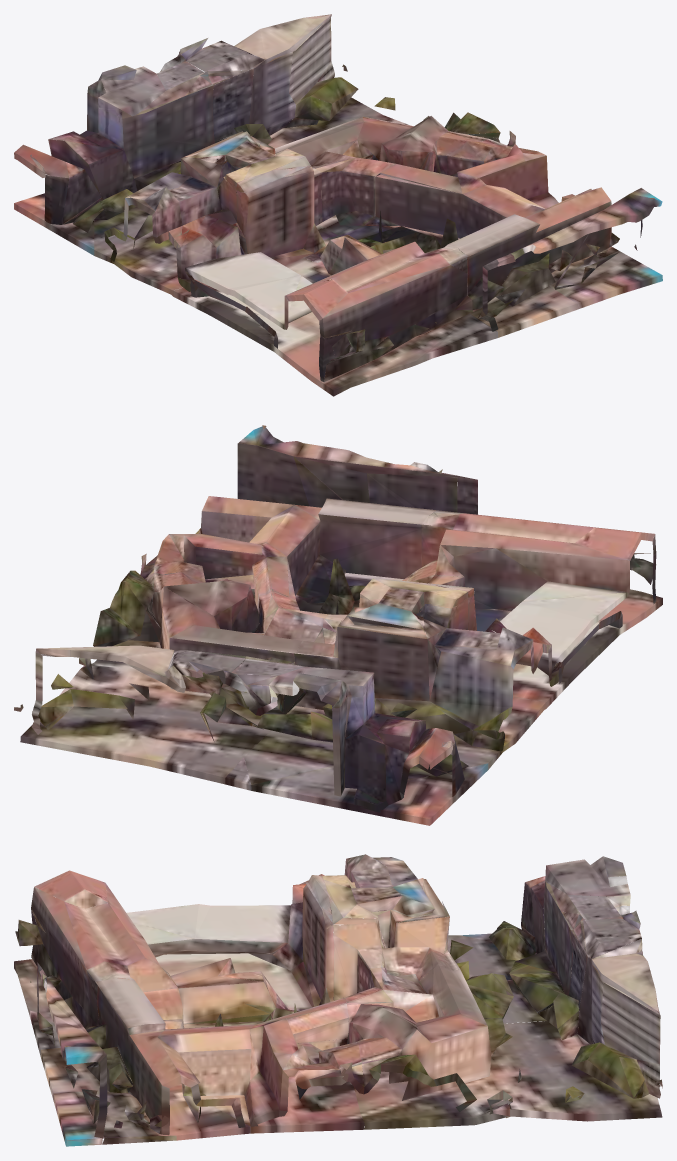
The picture shows the model from 3 angles, top to bottom: view 1: azimuth 30°, elevation 25°; view 2: azimuth 150°, elevation 25°; view 3: azimuth 270°, elevation 25°; orthographic projection. The views are drawn at different scales.
Visible parts, largest first — view 1: Mesh_0; view 2: Mesh_0; view 3: Mesh_0.
Part boxes in pixels (bbox=[...]): Mesh_0: bbox=[14, 14, 662, 396]; Mesh_0: bbox=[14, 425, 662, 825]; Mesh_0: bbox=[14, 854, 662, 1146].
Size of the model in its own units: 133 by 36.3 by 165.
2 materials, 2 textured.
